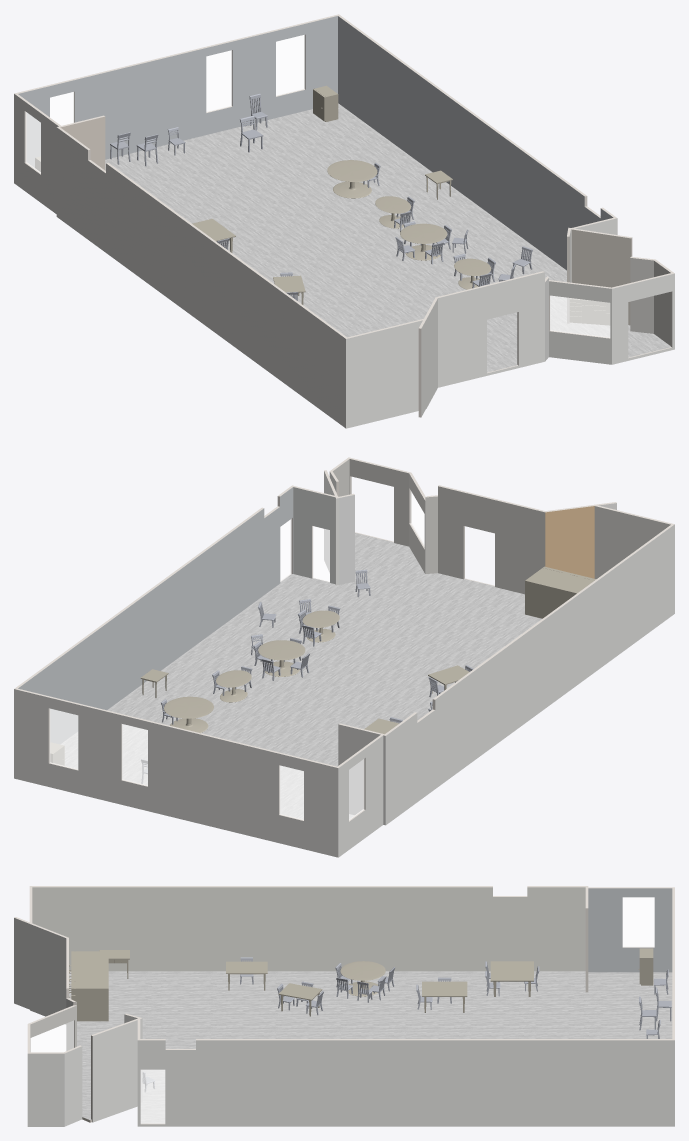
The model's file is Elks_Lodge_Banquet_Hall.glb.
The picture shows the model from 3 angles, top to bottom: view 1: azimuth 30°, elevation 25°; view 2: azimuth 150°, elevation 25°; view 3: azimuth 270°, elevation 25°; orthographic projection. The views are drawn at different scales.
Visible parts, largest first — view 1: floor_Banquet_Hall, wall_5, wall_23, wall_25, wall_14, wall_20, wall_37, wall_3, wall_18, wall_19, window_1, window_6 (+21 smaller); view 2: floor_Banquet_Hall, wall_5, wall_2, wall_23, wall_49, wall_3, wall_43, wall_61, wall_55, storage_cabinet_mid50, wall_59, wall_10 (+22 smaller); view 3: wall_1, wall_31, floor_Banquet_Hall, wall_27, wall_8, wall_11, wall_16, storage_cabinet_mid50, window_2, window_7, wall_0, wall_12 (+14 smaller).
Part boxes in pixels (x1=…): floor_Banquet_Hall: x1=105, y1=103, x2=670, y2=372; wall_5: x1=56, y1=127, x2=345, y2=428; wall_23: x1=338, y1=16, x2=613, y2=270; wall_25: x1=18, y1=16, x2=337, y2=167; wall_14: x1=438, y1=272, x2=544, y2=387; wall_20: x1=346, y1=320, x2=422, y2=428; wall_37: x1=571, y1=229, x2=631, y2=325; wall_3: x1=14, y1=94, x2=58, y2=213; wall_18: x1=549, y1=281, x2=611, y2=364; wall_19: x1=612, y1=273, x2=674, y2=364; window_1: x1=550, y1=296, x2=609, y2=337; window_6: x1=550, y1=296, x2=609, y2=337; floor_Banquet_Hall: x1=61, y1=533, x2=542, y2=819; wall_5: x1=385, y1=524, x2=674, y2=824; wall_2: x1=14, y1=689, x2=338, y2=857; wall_23: x1=18, y1=487, x2=293, y2=743; wall_49: x1=438, y1=486, x2=545, y2=594; wall_3: x1=338, y1=736, x2=383, y2=857; wall_43: x1=545, y1=506, x2=594, y2=578; wall_61: x1=594, y1=506, x2=670, y2=578; wall_55: x1=293, y1=487, x2=335, y2=584; storage_cabinet_mid50: x1=525, y1=566, x2=596, y2=618; wall_59: x1=349, y1=459, x2=408, y2=546; wall_10: x1=338, y1=724, x2=380, y2=814; wall_1: x1=137, y1=1040, x2=674, y2=1126; wall_31: x1=32, y1=887, x2=585, y2=971; floor_Banquet_Hall: x1=69, y1=971, x2=672, y2=1123; wall_27: x1=588, y1=888, x2=672, y2=972; wall_8: x1=92, y1=1020, x2=137, y2=1122; wall_11: x1=30, y1=924, x2=66, y2=1024; wall_16: x1=27, y1=1053, x2=64, y2=1126; storage_cabinet_mid50: x1=69, y1=951, x2=108, y2=1021; window_2: x1=623, y1=897, x2=654, y2=946; window_7: x1=623, y1=897, x2=654, y2=946; wall_0: x1=64, y1=1046, x2=82, y2=1126; wall_12: x1=14, y1=918, x2=29, y2=1009.
Size of the model in its own units: 13.47 by 3.52 by 24.4.
Materials: 95 (1 with a texture image).
